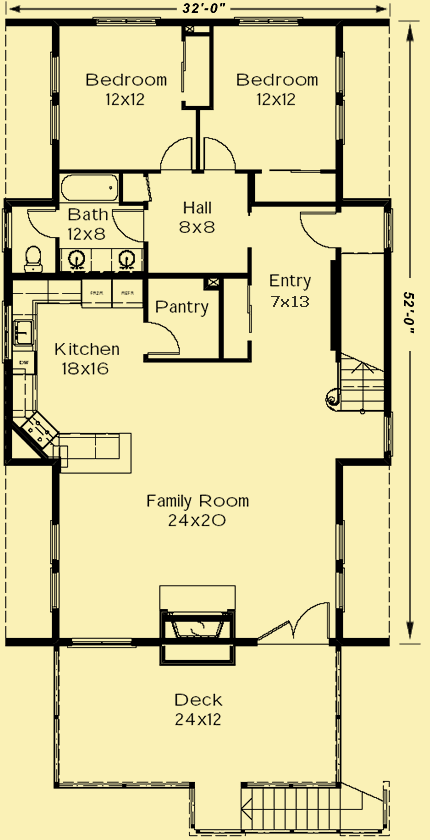door: (254, 599, 331, 650), (297, 206, 340, 254), (139, 317, 181, 356), (110, 207, 147, 247), (159, 134, 194, 176), (200, 136, 239, 171), (27, 206, 59, 248)
large_sink: (17, 242, 45, 275)
sink: (12, 318, 35, 354)
small_sink: (107, 244, 142, 276), (57, 250, 91, 275)
stairs: (234, 778, 394, 833), (327, 347, 388, 416)
tub: (54, 166, 126, 207)
windows: (331, 51, 350, 150), (330, 519, 348, 616), (47, 51, 65, 146), (110, 206, 152, 244), (47, 518, 62, 613)
